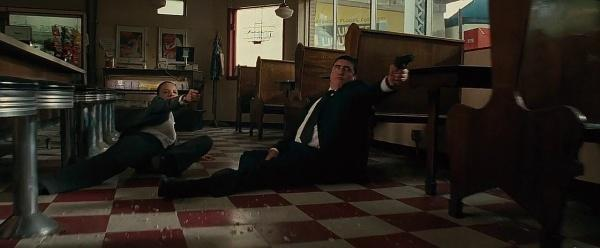Gun: (394, 53, 415, 69), (190, 78, 208, 94)
